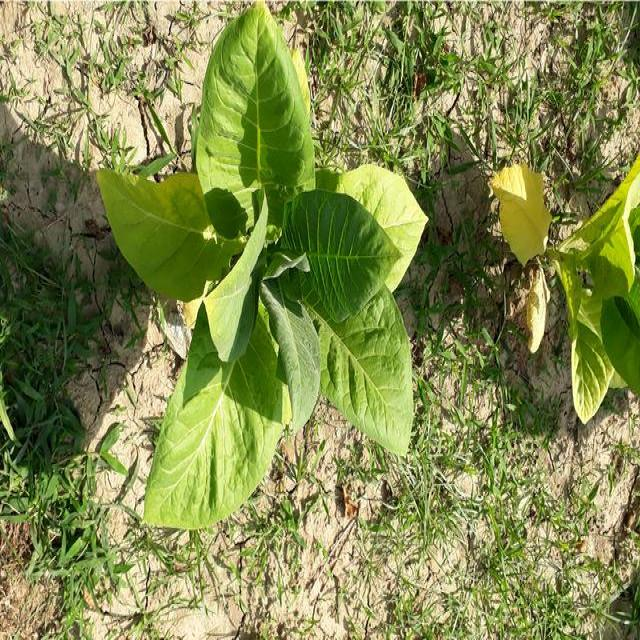crop: (98, 0, 418, 529)
